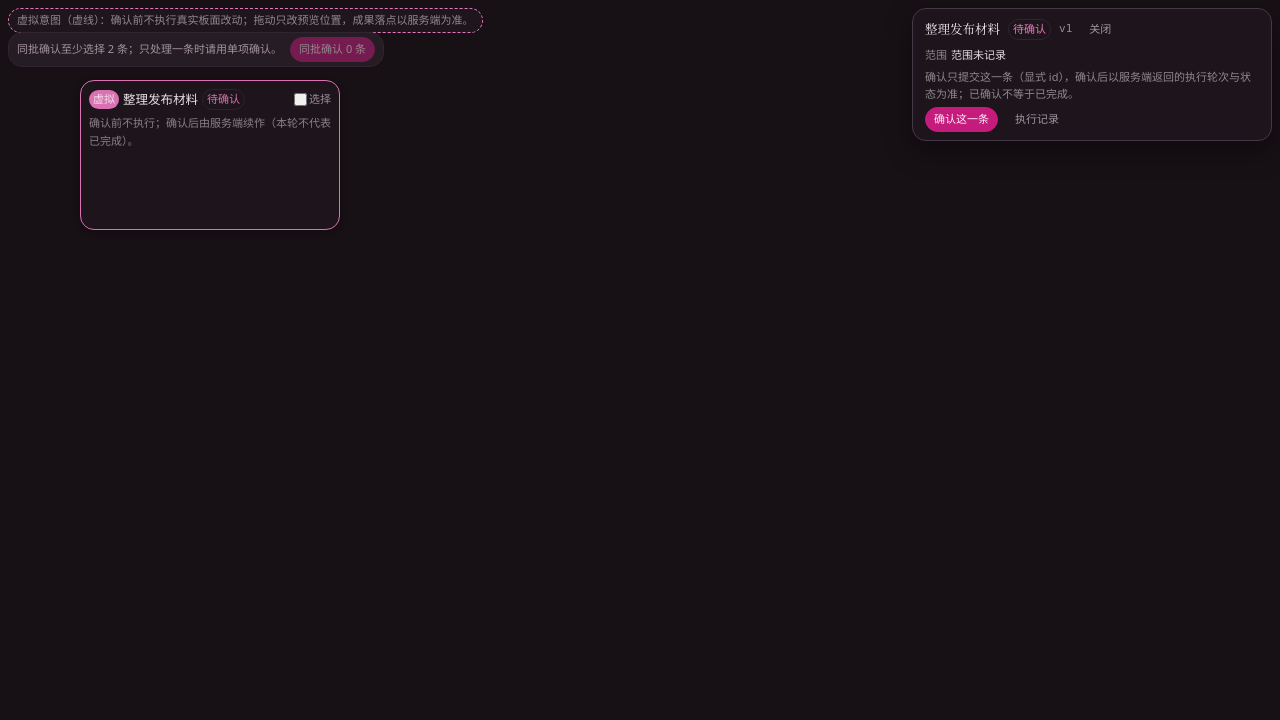
Scenario: IntentLayer：失败原因用户可见 › 单条确认成功：不出现错误行，notice 保持既有口径
What coordinates should you click on to do the following:
click the button "确认这一条"
I would click on:
 (962, 119)
Its box is [925,107,998,132].
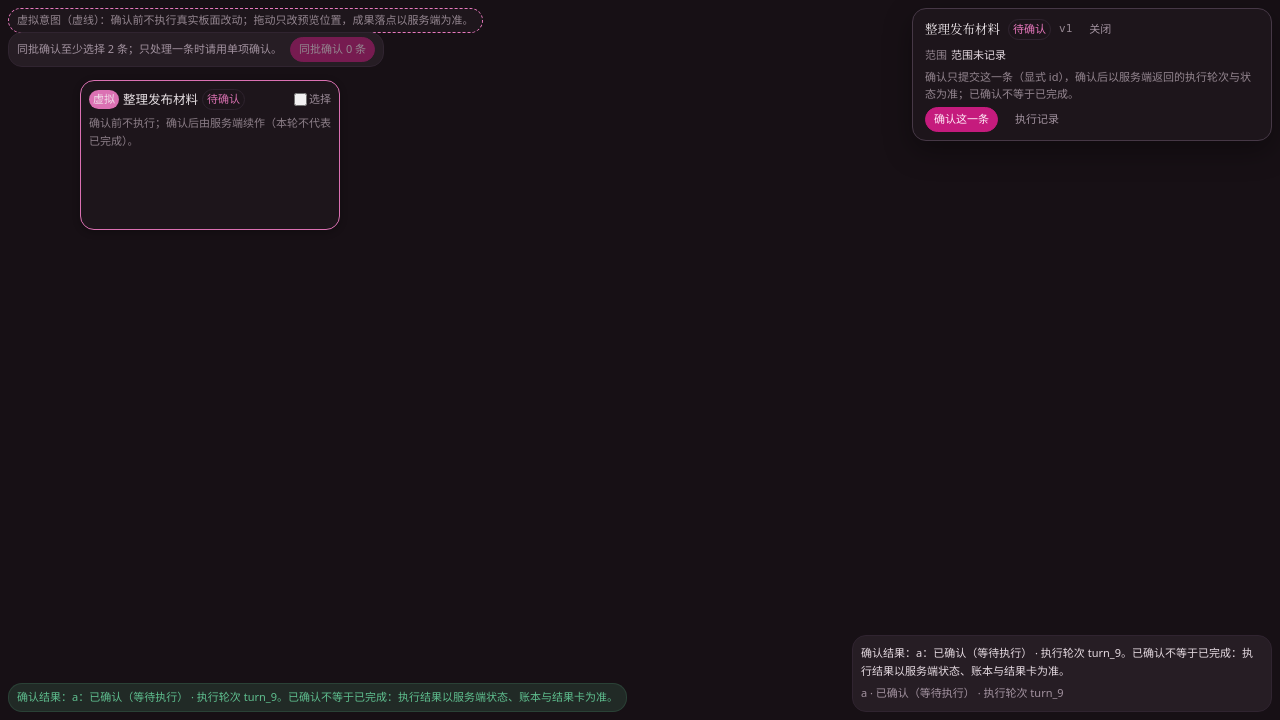
Expected: the message "确认结果：a：已确认（等待执行） · 执行轮次 turn_9。已确认不等于已完成：执行结果以服务端状态、账本与结果卡为准。" is shown, [8,683,627,712]
